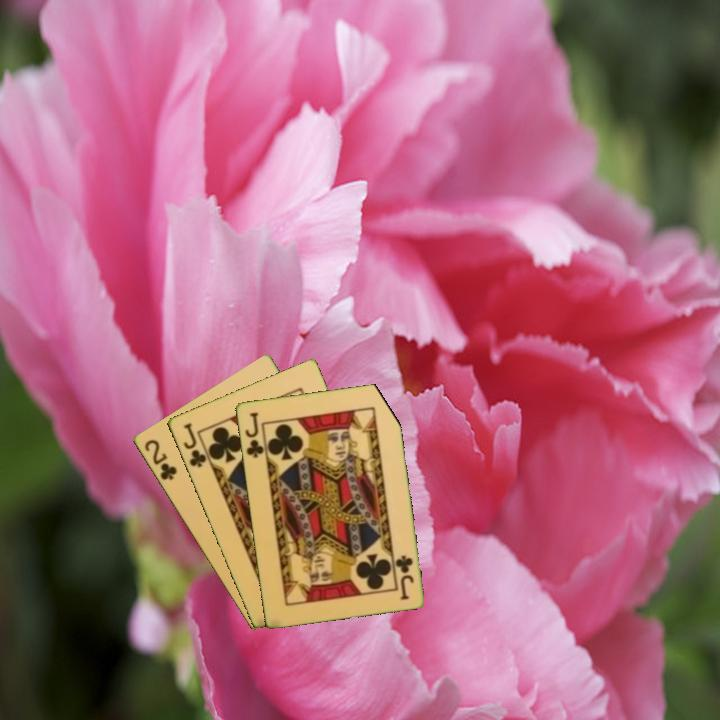2c: (141, 436, 180, 483)
Jc: (179, 419, 209, 470), (241, 408, 266, 460), (392, 551, 416, 603)
